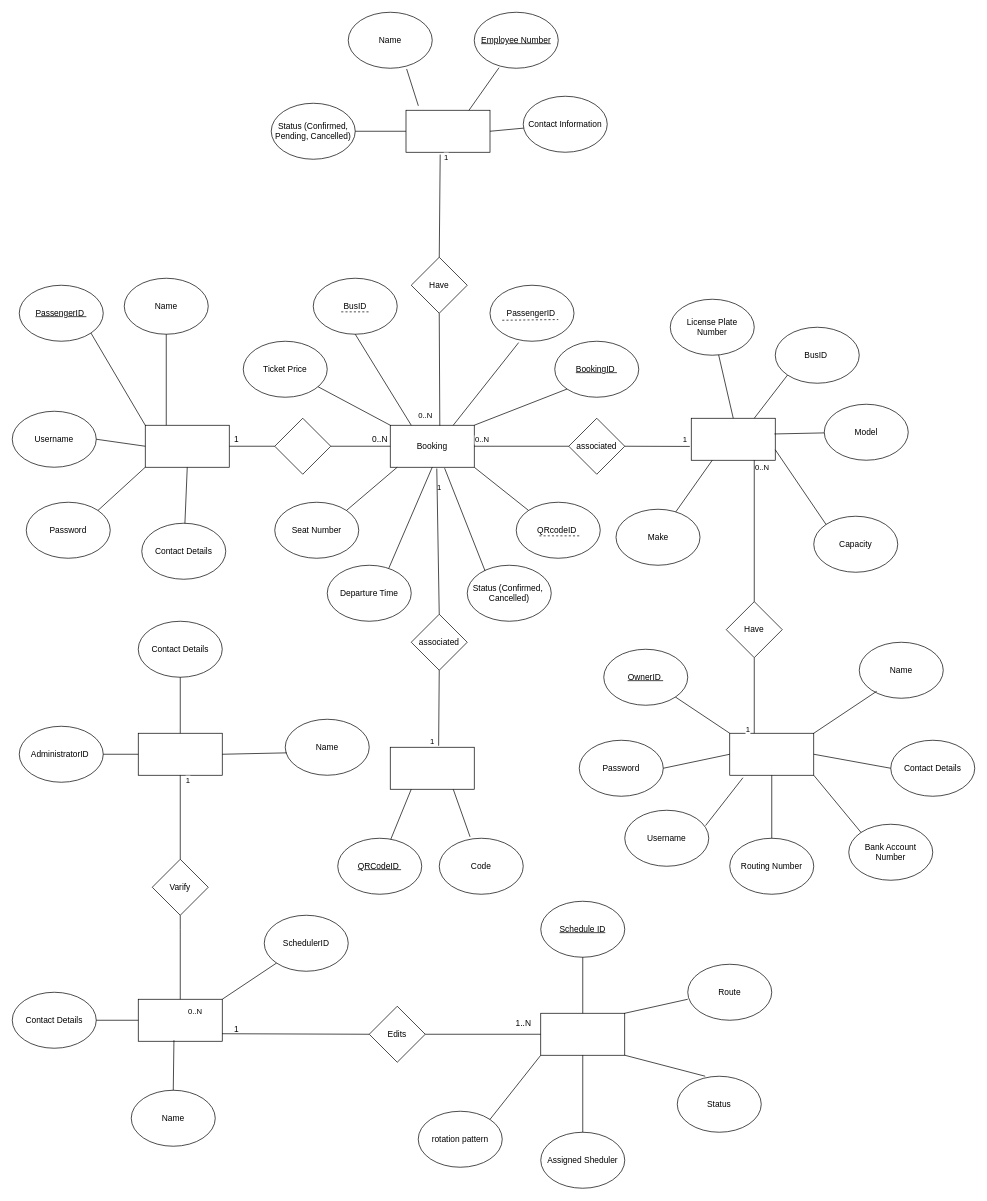
This 987x1201 diagram has some shape labels left out. The shapes that lost their labels are listed below. From the top down, each one's centre as x and y in pixels, then its label:
the point at 447,131: Conductor
the point at 187,446: Passenger
the point at 302,446: Makes
the point at 733,439: Bus
the point at 180,754: Administrator
the point at 432,768: QR code
the point at 771,754: Owner
the point at 180,1020: Sheduler
the point at 582,1034: Shedule
